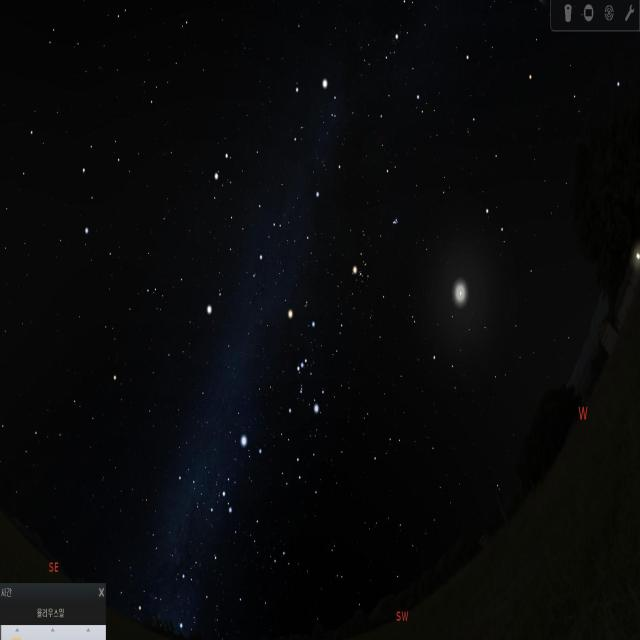canis_major: (214, 426, 264, 519)
canis_minor: (202, 281, 226, 324)
gemini: (213, 146, 278, 266)
moon: (452, 277, 468, 316)
orion: (277, 305, 324, 427)
pleiades: (390, 213, 401, 234)
taurus: (344, 194, 413, 312)
